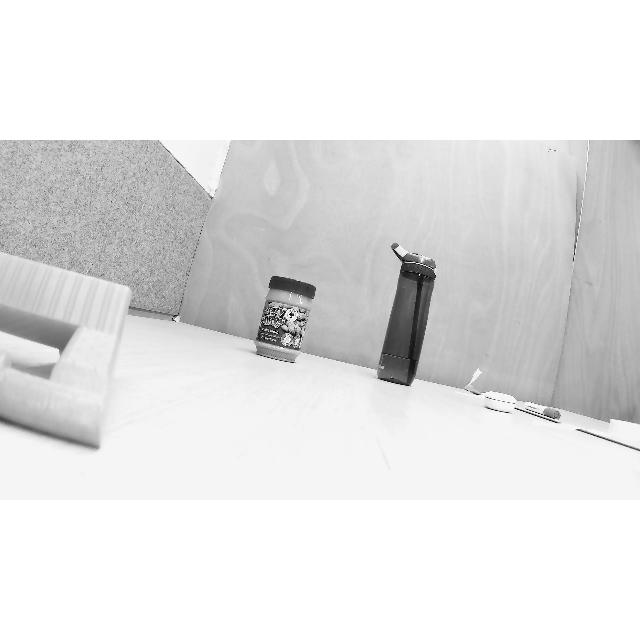targets: (0, 246, 132, 454), (374, 242, 438, 388), (255, 274, 317, 362), (478, 386, 518, 418), (527, 399, 561, 423)
